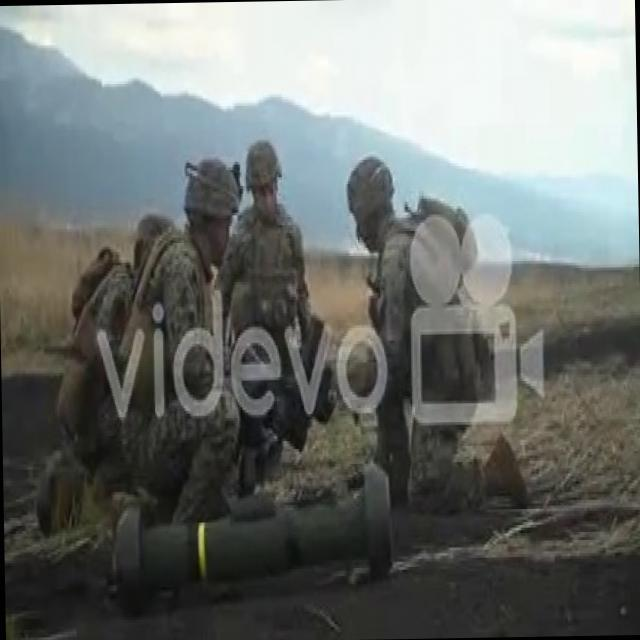rocket: (112, 458, 393, 616)
